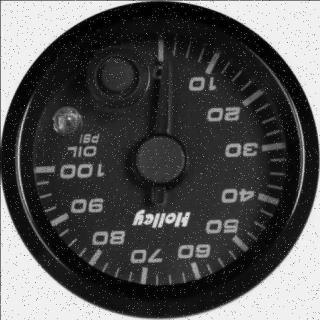gauge: (0, 0, 320, 320), (131, 132, 188, 184), (26, 149, 61, 187), (143, 42, 179, 72), (159, 50, 172, 66)
